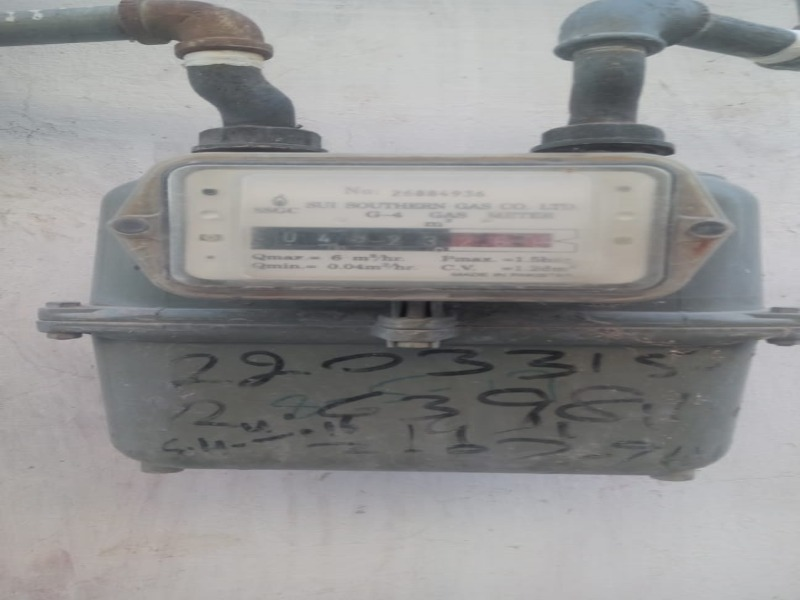ssgc: (253, 224, 566, 253)
